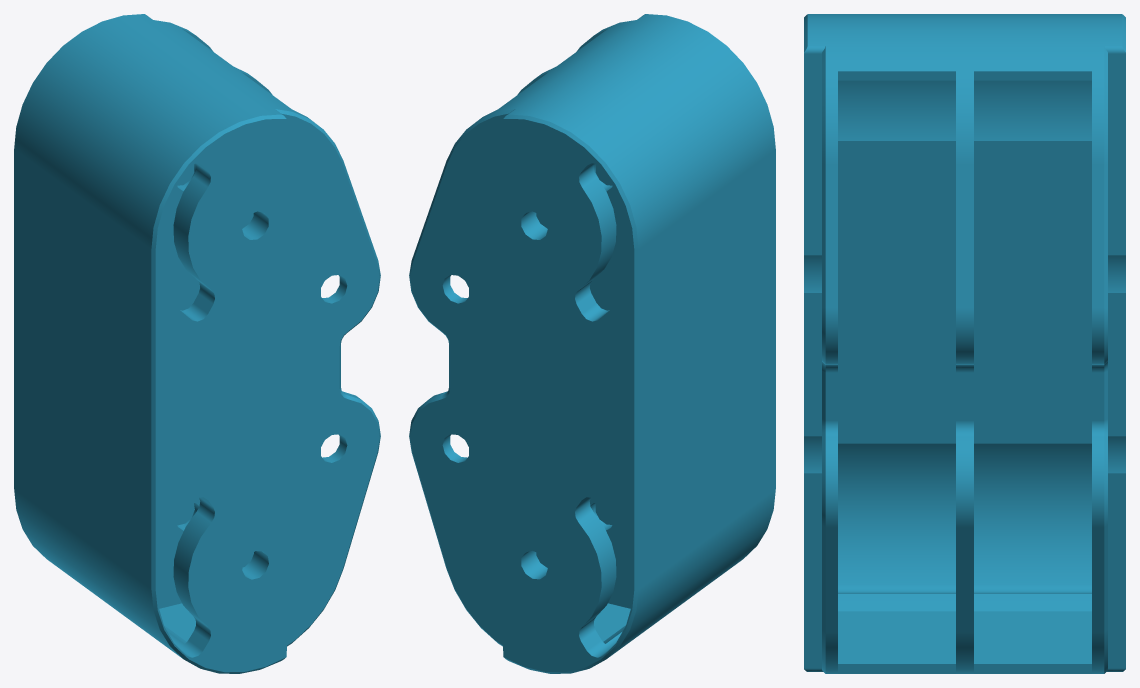
File: lifter_knee.dae
The picture shows the model from 3 angles, left to right: view 1: azimuth 30°, elevation 25°; view 2: azimuth 150°, elevation 25°; view 3: azimuth 270°, elevation 25°; orthographic projection. The views are drawn at different scales.
Parts seen in each view (by area): view 1: ソリッド1; view 2: ソリッド1; view 3: ソリッド1.
Part boxes in pixels (left/top/right/bottom): ソリッド1: left=14, top=14, right=380, bottom=673; ソリッド1: left=409, top=14, right=775, bottom=673; ソリッド1: left=804, top=14, right=1125, bottom=673.
Bounding box in the file's own units: 0.0878 × 0.09 × 0.1959.
